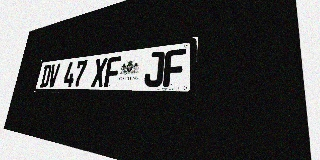4: (63, 61, 77, 87)
7: (72, 60, 88, 87)
D: (40, 64, 52, 87)
F: (163, 48, 186, 87), (104, 56, 122, 87)
J: (144, 51, 165, 87)
V: (47, 63, 61, 87)
X: (91, 58, 108, 87)
